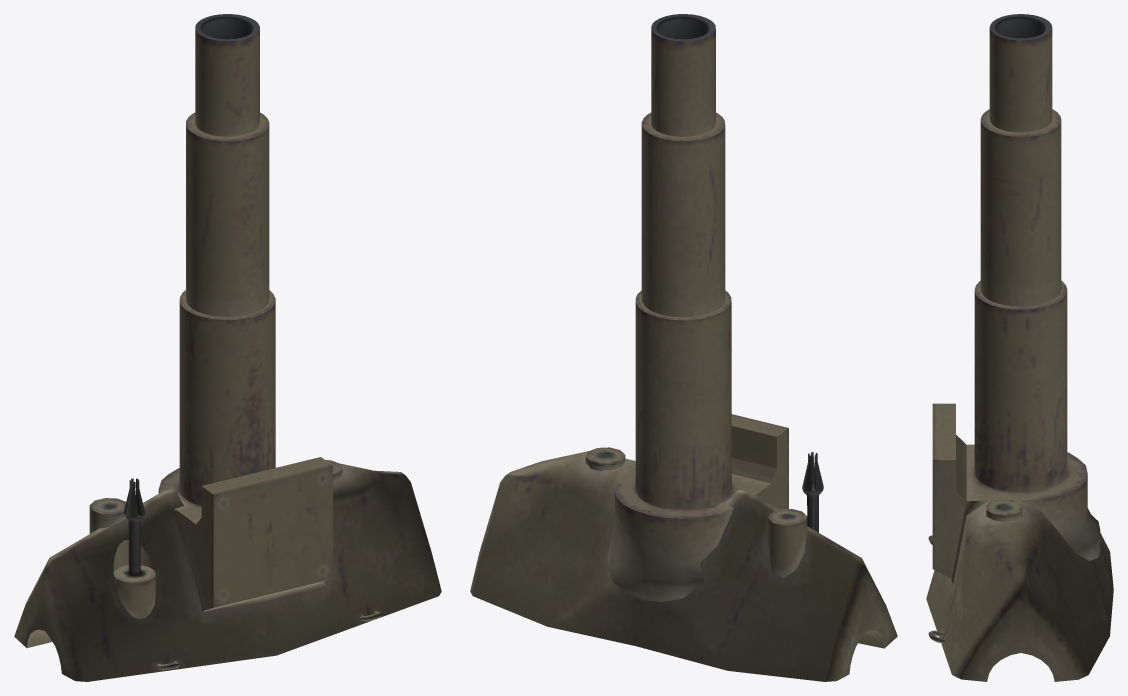
The model's file is Gun_05.glb.
3 renders of one model, left to right at view 1: azimuth 30°, elevation 25°; view 2: azimuth 150°, elevation 25°; view 3: azimuth 270°, elevation 25°, orthographic. The views are drawn at different scales.
Parts seen in each view (by area): view 1: set_0_group_0; view 2: set_0_group_0; view 3: set_0_group_0.
Boxes of the visible parts, x1=… form: set_0_group_0: x1=14, y1=14, x2=441, y2=681; set_0_group_0: x1=470, y1=14, x2=897, y2=681; set_0_group_0: x1=926, y1=14, x2=1113, y2=681.
Size of the model in its own units: 1.26 by 1.97 by 0.5793.
1 material, 1 textured.
